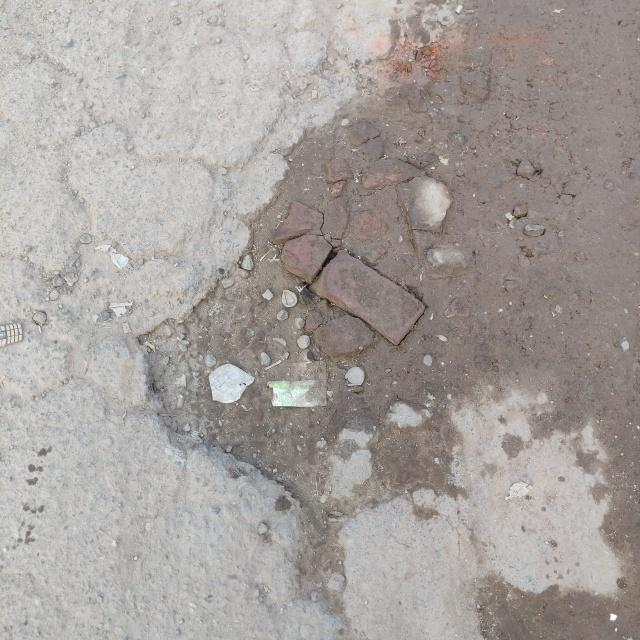Surface Erosion: (21, 3, 640, 640)
